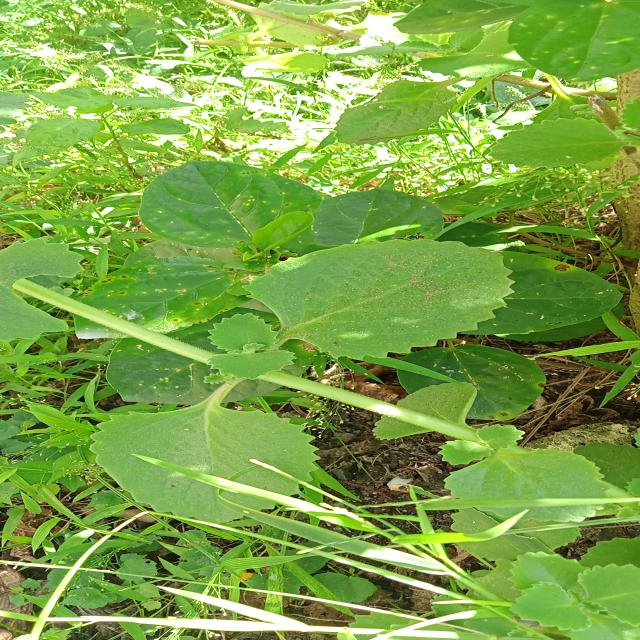Oregano: (237, 230, 524, 368), (90, 399, 339, 526)
